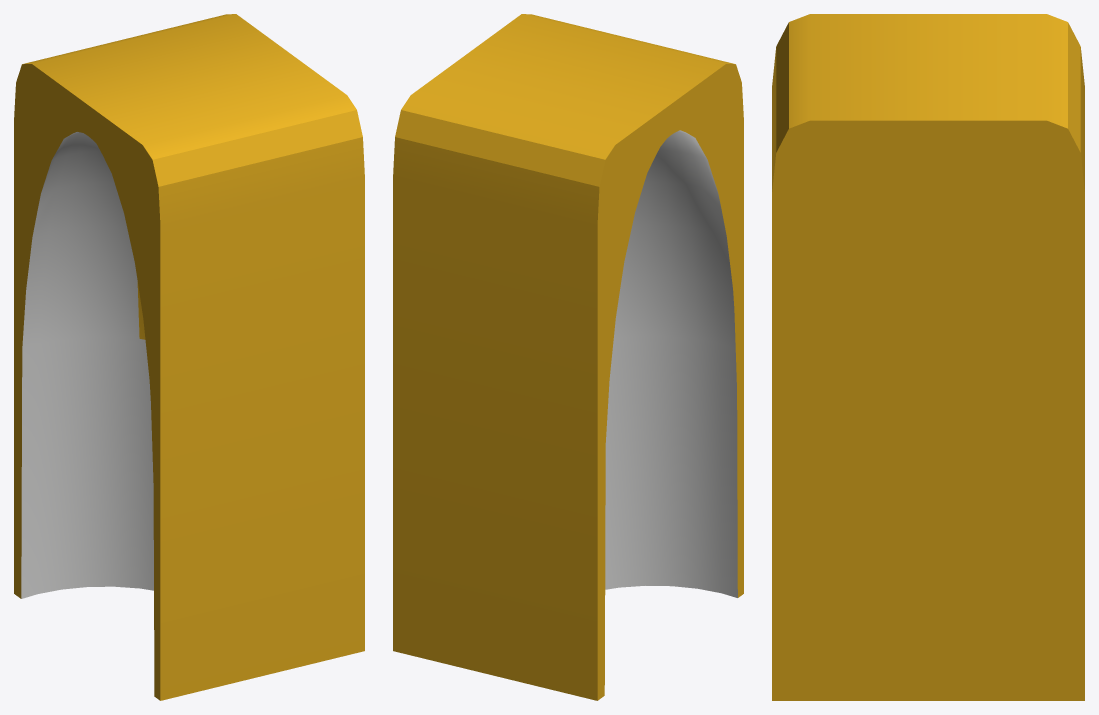
File: ChurchWall.FBX
3 renders of one model, left to right at view 1: azimuth 30°, elevation 25°; view 2: azimuth 150°, elevation 25°; view 3: azimuth 270°, elevation 25°, orthographic. The views are drawn at different scales.
Visible parts, largest first — view 1: Box001; view 2: Box001; view 3: Box001.
Boxes of the visible parts, <box> form: Box001: <box>14,14,364,700</box>; Box001: <box>393,14,743,700</box>; Box001: <box>772,14,1084,700</box>.
Size of the model in its own units: 113 by 288 by 141.
Materials: 1 (1 with a texture image).
